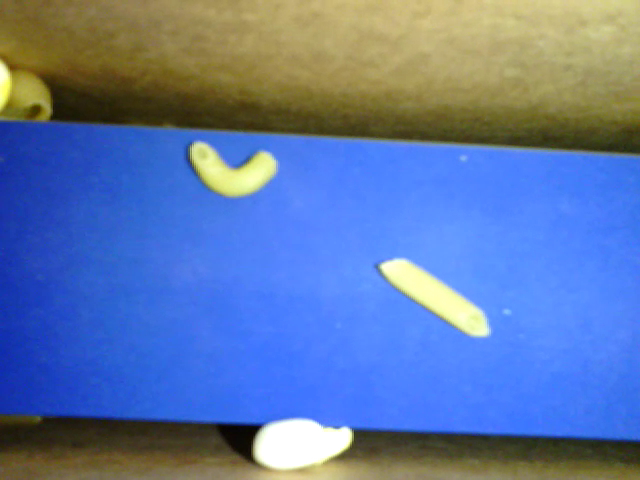elbow: (187, 139, 280, 203)
penne: (377, 255, 494, 339)
shell: (4, 63, 58, 126)
